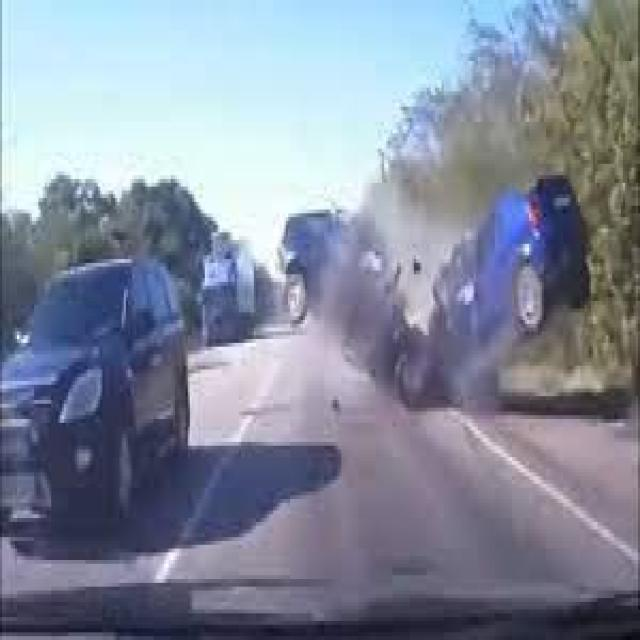severe: (271, 158, 593, 413)
